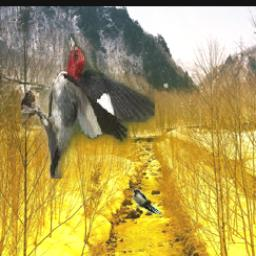Swallow: (133, 189, 162, 214)
Woodpecker: (22, 34, 156, 180)
